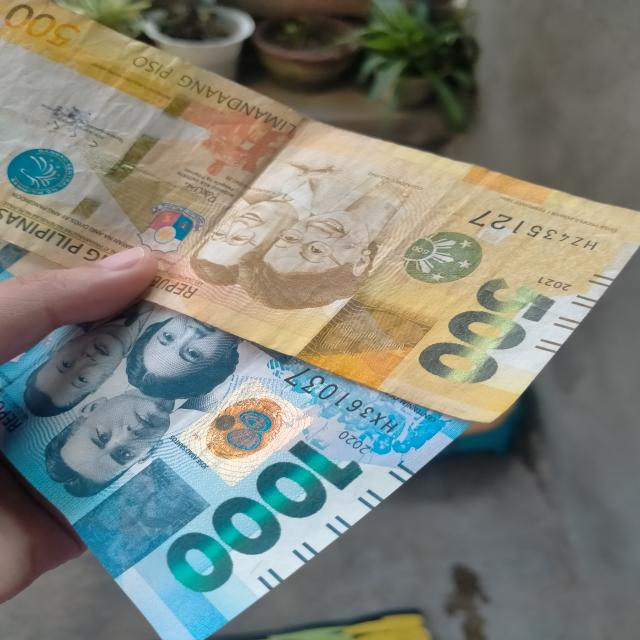concealed_value: (64, 458, 207, 572), (296, 285, 430, 385)
optically_variable_device: (173, 378, 310, 477), (379, 214, 505, 303)
security_thread: (32, 64, 221, 261)
value: (165, 439, 361, 587), (413, 270, 551, 387)
